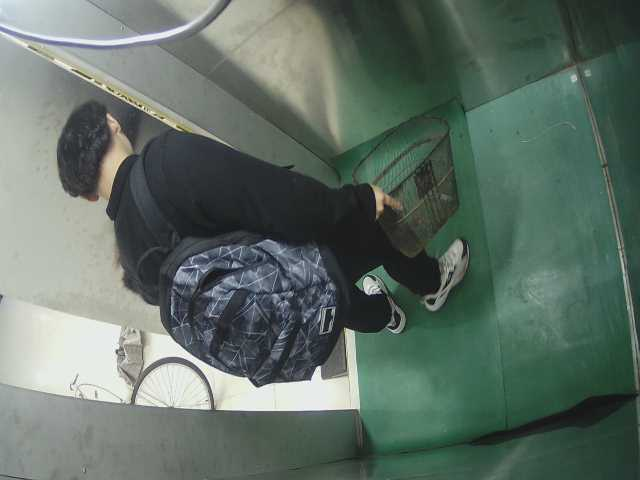person: (50, 92, 474, 385)
